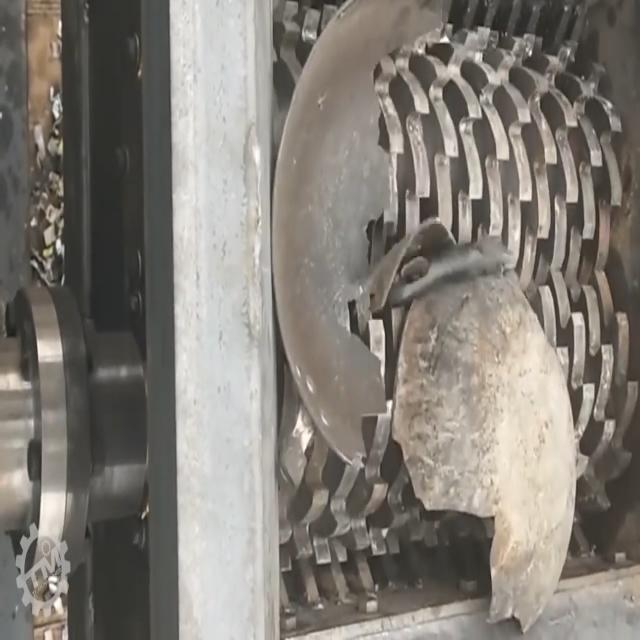Broyeur: (263, 0, 640, 640)
